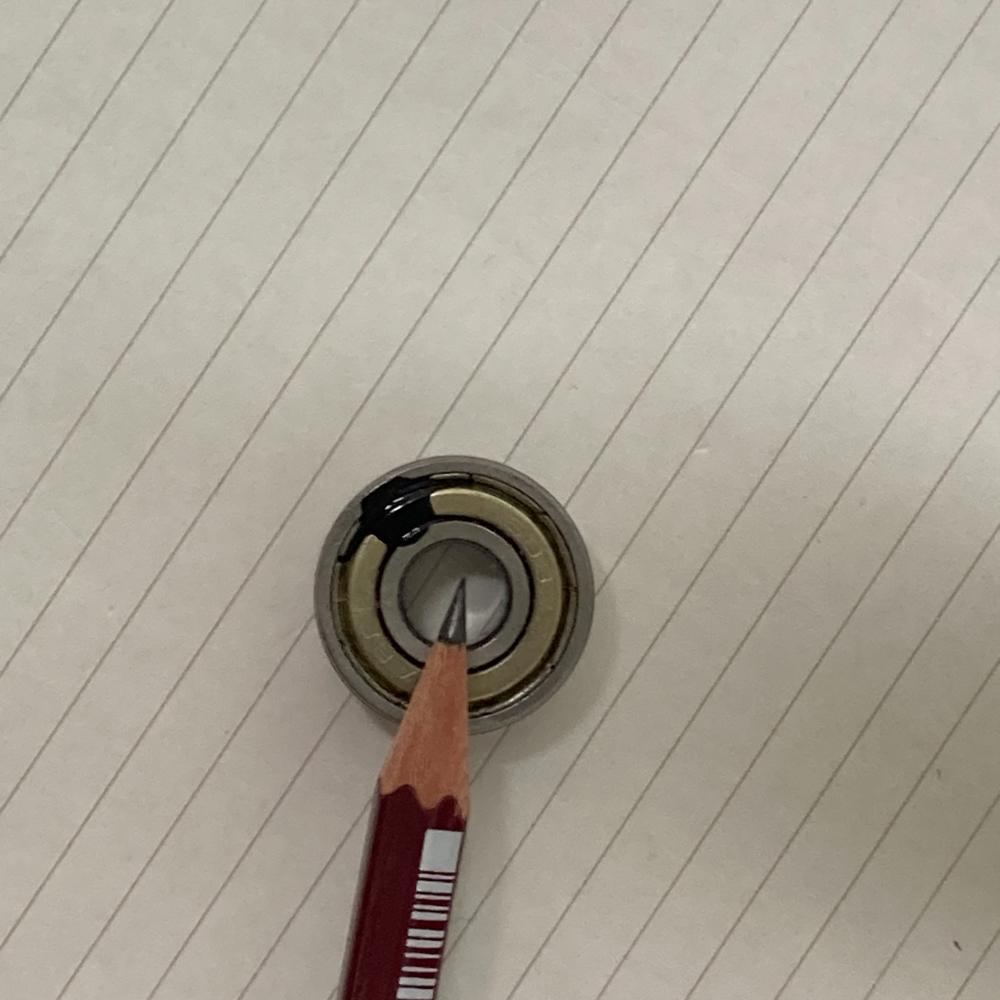ball_bearing_oil_stain: (305, 453, 604, 745)
